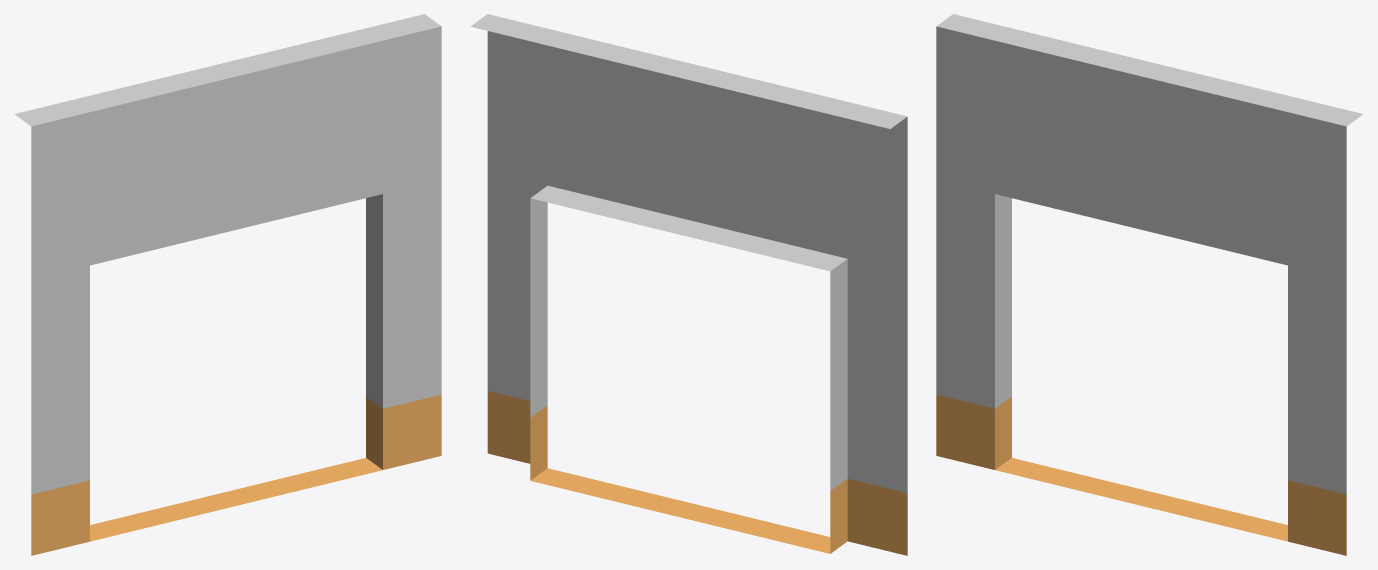
Rendered from M_WallDoor150DWhite80-1.fbx.
3 renders of one model, left to right at view 1: azimuth 30°, elevation 25°; view 2: azimuth 150°, elevation 25°; view 3: azimuth 330°, elevation 25°, orthographic. The views are drawn at different scales.
Visible parts, largest first — view 1: M_WallDoor150DWhite80-1; view 2: M_WallDoor150DWhite80-1; view 3: M_WallDoor150DWhite80-1.
Boxes of the visible parts, box(x1,y1,x2,y2) form: M_WallDoor150DWhite80-1: box(14, 14, 441, 555); M_WallDoor150DWhite80-1: box(471, 14, 907, 555); M_WallDoor150DWhite80-1: box(936, 14, 1363, 555).
Size of the model in its own units: 350 by 25 by 350.
